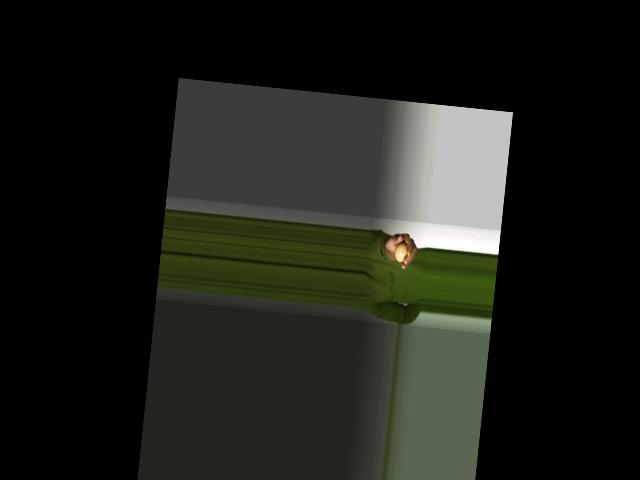egg: (394, 241, 408, 263)
